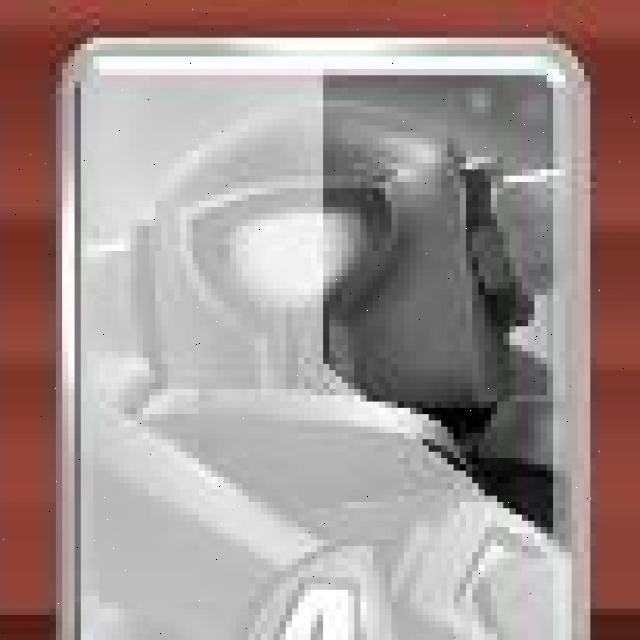Mini_Pekka: (55, 42, 596, 640)
